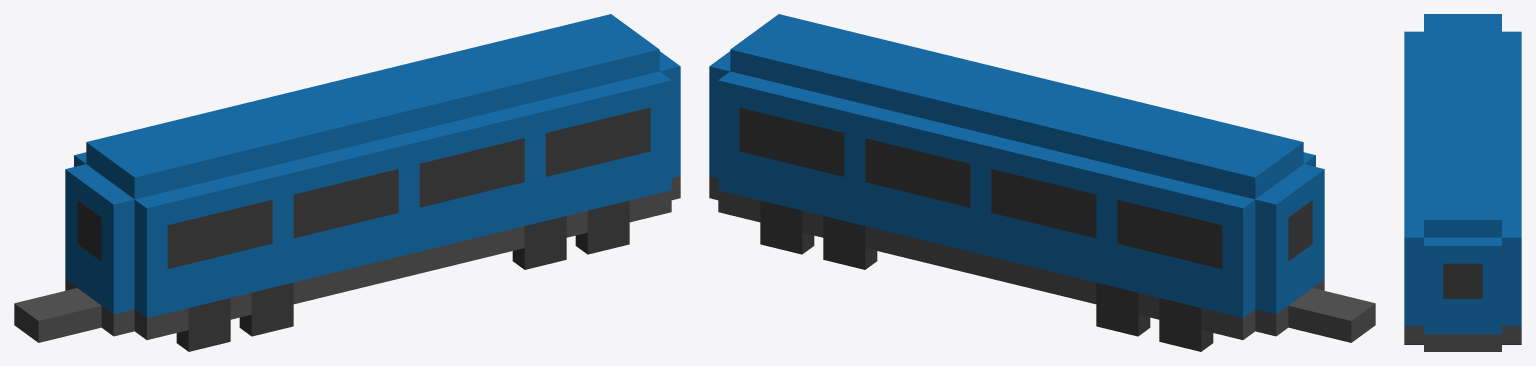
File: train-trailer-v4-blue.gltf
3 renders of one model, left to right at view 1: azimuth 30°, elevation 25°; view 2: azimuth 150°, elevation 25°; view 3: azimuth 270°, elevation 25°, orthographic. The views are drawn at different scales.
Parts seen in each view (by area): view 1: model, wheels; view 2: model, wheels; view 3: model.
Part boxes in pixels (x1,y1,x2,y2): model: (14, 14, 680, 342); wheels: (176, 200, 629, 351); model: (709, 14, 1375, 342); wheels: (760, 200, 1213, 351); model: (1404, 14, 1521, 351).
Size of the model in its own units: 3 by 0.8 by 0.6.
Materials: 2 (2 with a texture image).
